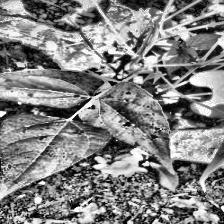ALS: (77, 85, 176, 172), (0, 115, 103, 193), (0, 67, 100, 108)
